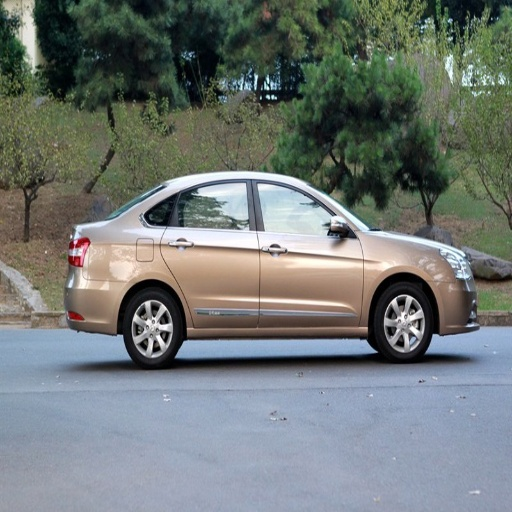back_right_door: (160, 177, 259, 325)
front_right_door: (254, 178, 363, 323)
